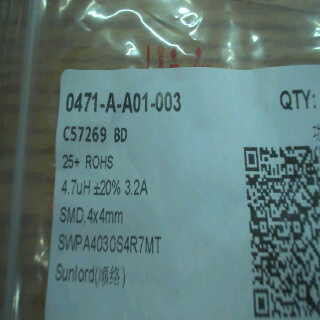4.7uH: (57, 174, 93, 198)
